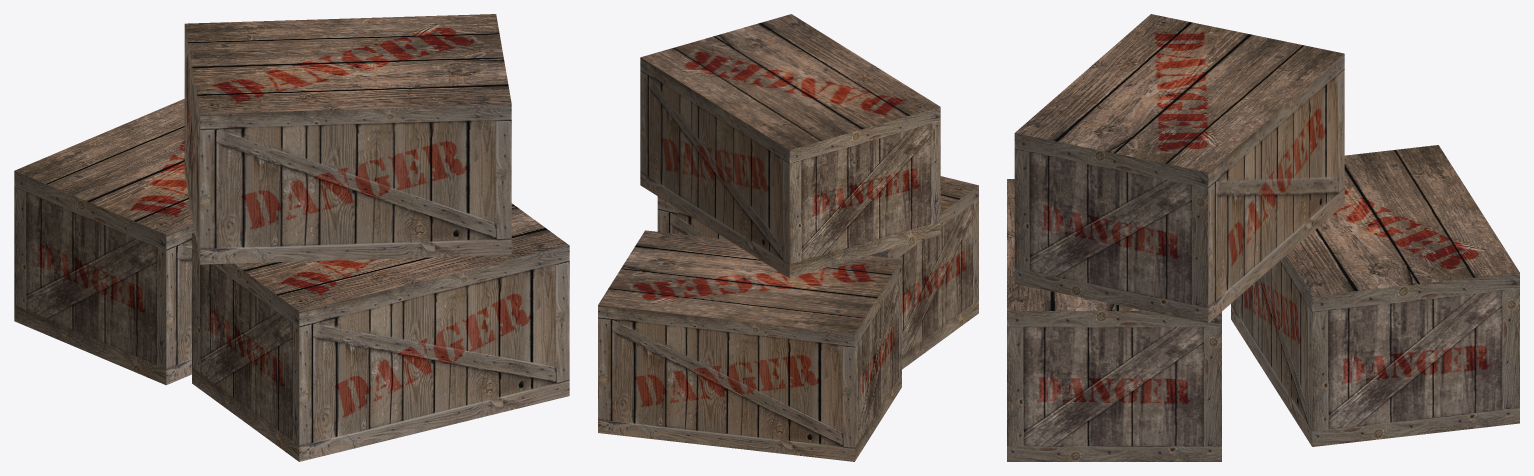
The model's file is Dangerous_boxes.fbx.
3 renders of one model, left to right at view 1: azimuth 30°, elevation 25°; view 2: azimuth 150°, elevation 25°; view 3: azimuth 270°, elevation 25°, orthographic. The views are drawn at different scales.
Parts seen in each view (by area): view 1: Box003, Box001, Box002; view 2: Box003, Box002, Box001; view 3: Box003, Box002, Box001.
Boxes of the visible parts, x1=… form: Box003: x1=184, y1=14, x2=511, y2=264; Box001: x1=192, y1=203, x2=569, y2=461; Box002: x1=14, y1=99, x2=194, y2=385; Box003: x1=640, y1=14, x2=940, y2=278; Box002: x1=598, y1=230, x2=901, y2=461; Box001: x1=657, y1=176, x2=978, y2=369; Box003: x1=1014, y1=14, x2=1344, y2=323; Box002: x1=1231, y1=145, x2=1519, y2=446; Box001: x1=1007, y1=179, x2=1221, y2=461.
Bounding box in the file's own units: 50.29 × 39.54 × 60.76.
1 material, 1 textured.
